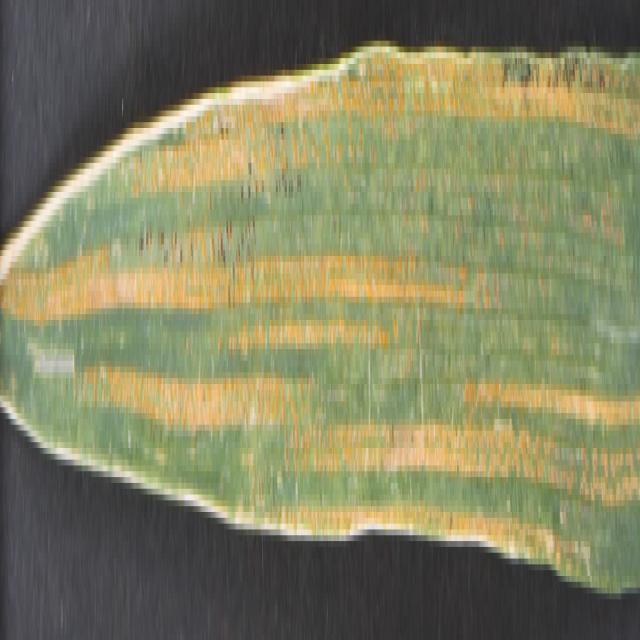leaf rust: (1, 12, 639, 512)
